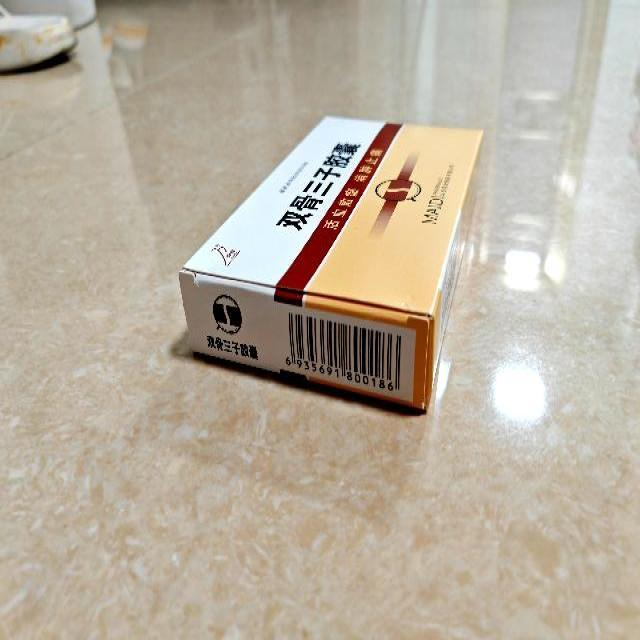box: (177, 116, 483, 412)
